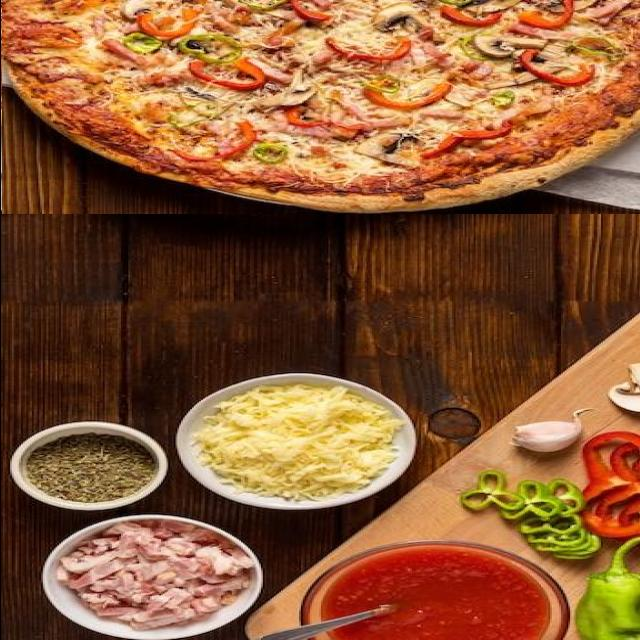pizza: (1, 0, 640, 214)
